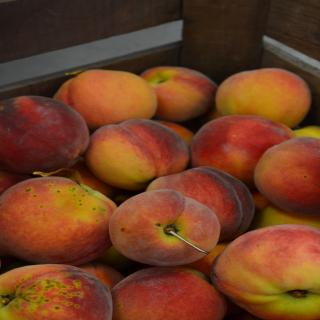Peach: (0, 68, 320, 320)
